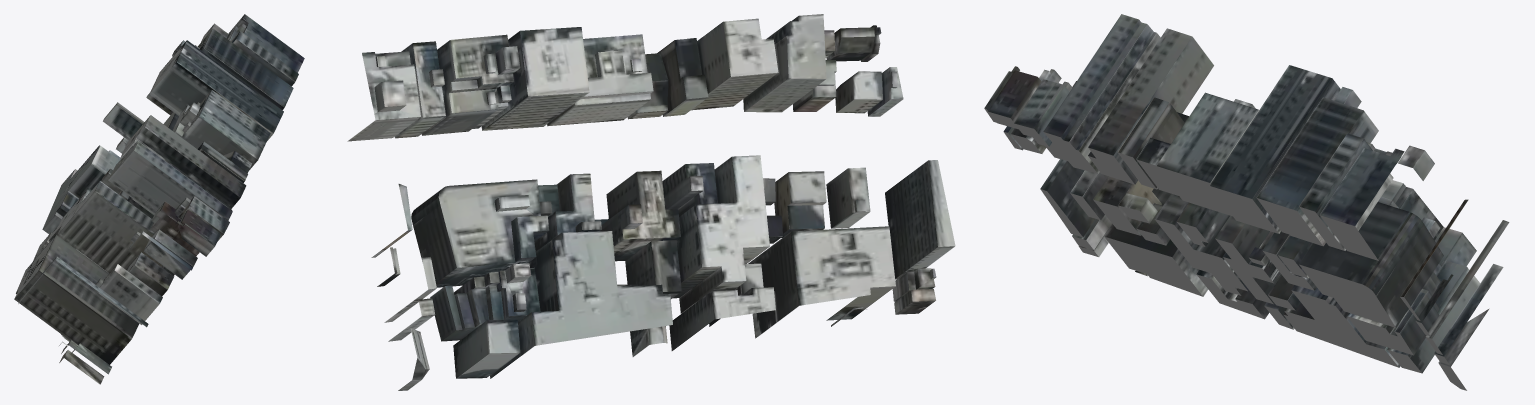
File: 39542_bldg_Building.glb
3 renders of one model, left to right at view 1: azimuth 30°, elevation 25°; view 2: azimuth 150°, elevation 25°; view 3: azimuth 270°, elevation 25°, orthographic. The views are drawn at different scales.
Bounding box in the file's own units: 132 × 79.36 × 132.
2 materials, 1 textured.
